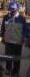hard-hat: (0, 4, 8, 16)
